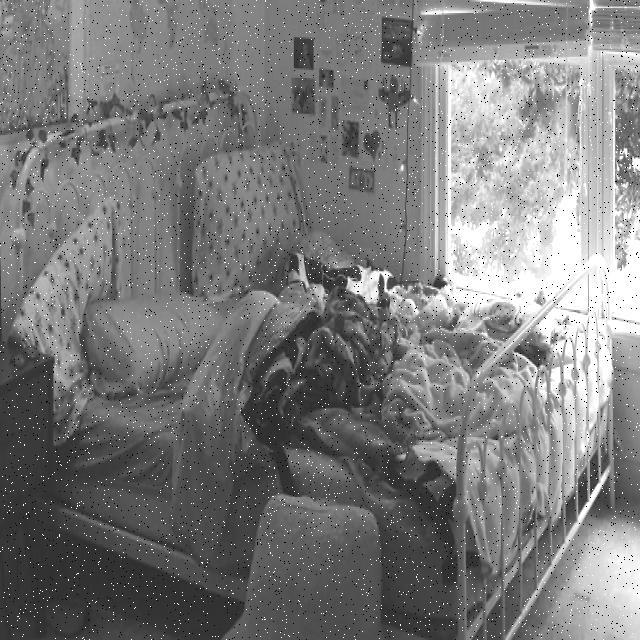bed: (35, 135, 604, 613)
